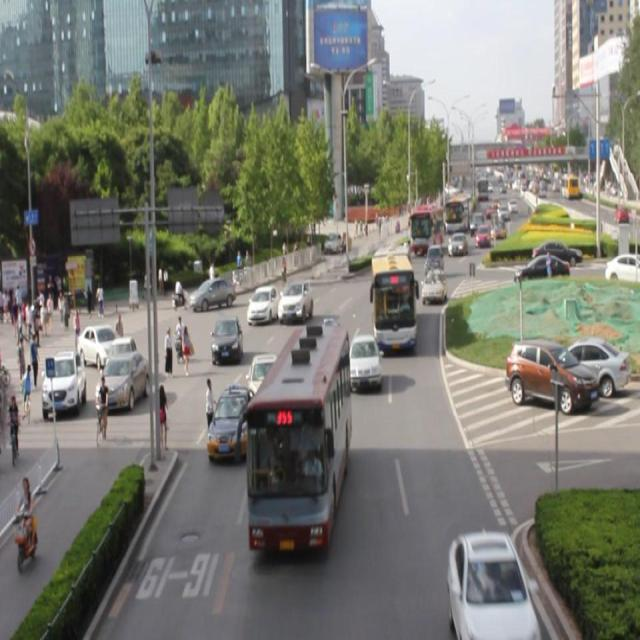car: (449, 531, 535, 640), (207, 385, 254, 459), (249, 352, 283, 418), (346, 332, 380, 386), (211, 314, 242, 364), (311, 318, 344, 362), (278, 281, 311, 323), (246, 283, 278, 326), (421, 265, 444, 300), (422, 241, 443, 277)
van: (246, 323, 348, 548), (371, 241, 415, 349)
